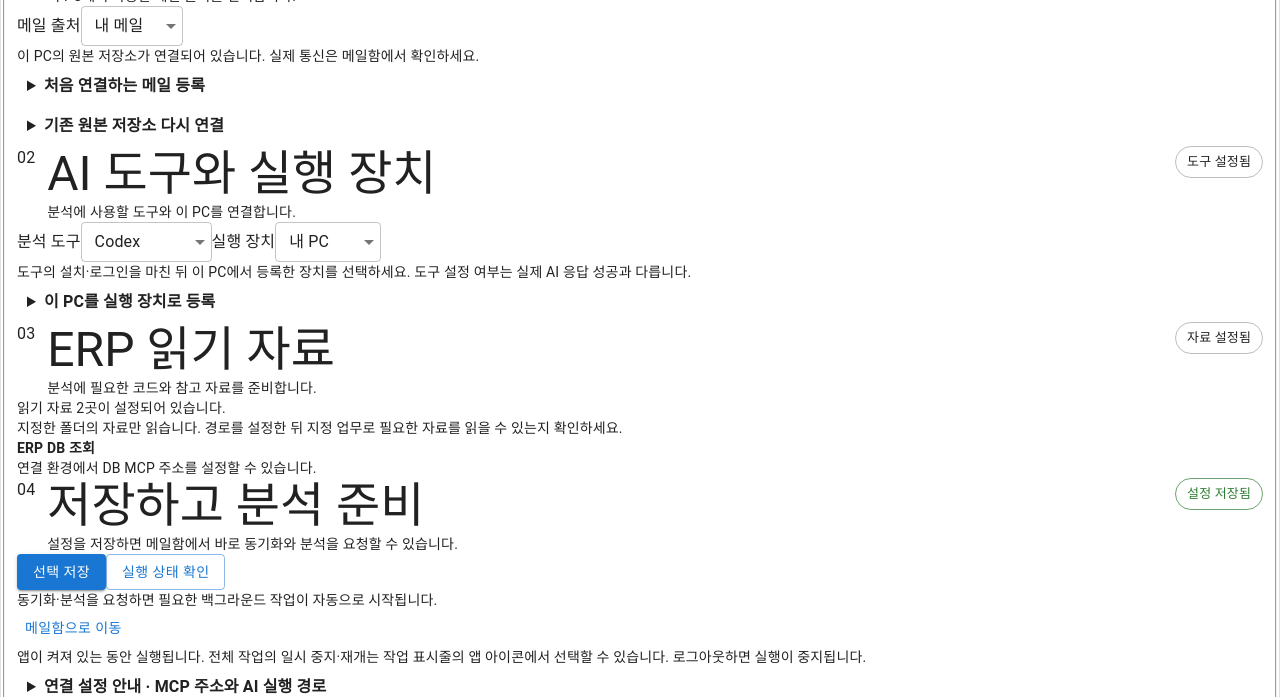
runtime failure stays actionable without presenting old readiness
This screenshot has width=1280, height=697.
(page scrolled)
Check: the dropdown labelled "메일 출처" shows "내 메일", box 81,6 -> 183,46
Click the button "실행 상태 확인" at (166, 572), box 106,554 -> 226,590
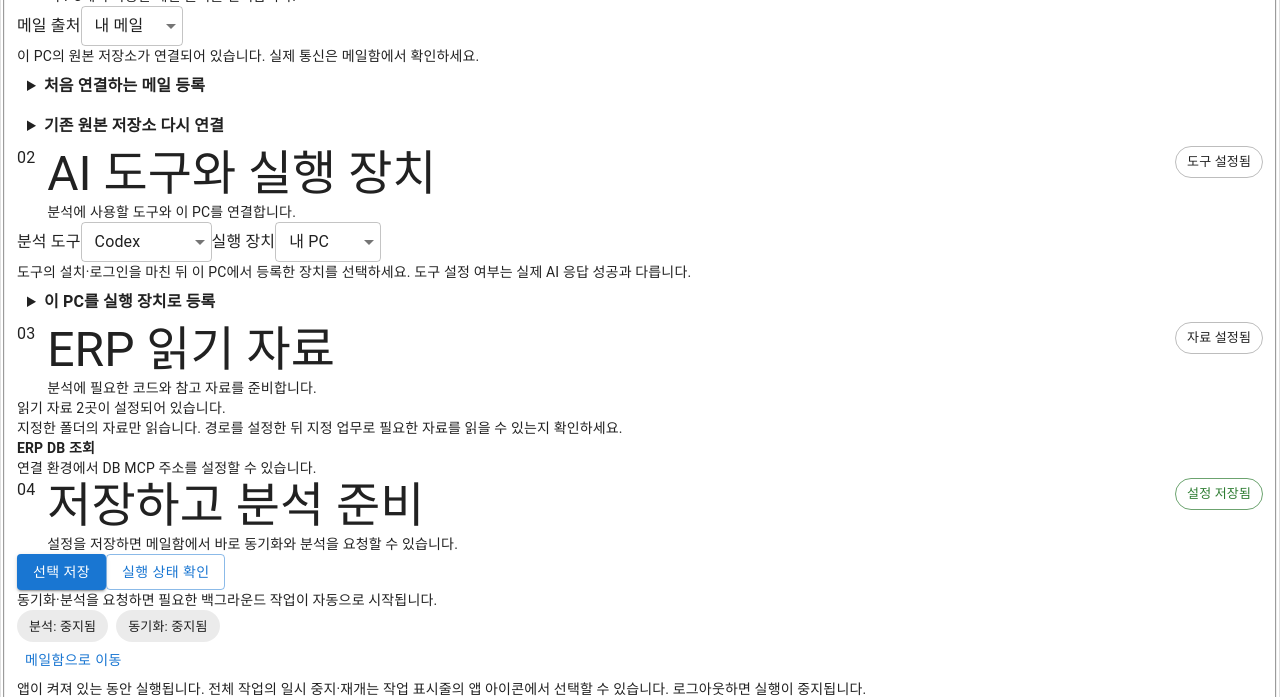
Check: the text "분석: 중지됨" is shown, box 29,618 -> 96,634
Click the button "실행 상태 확인" at (166, 572), box 106,554 -> 226,590
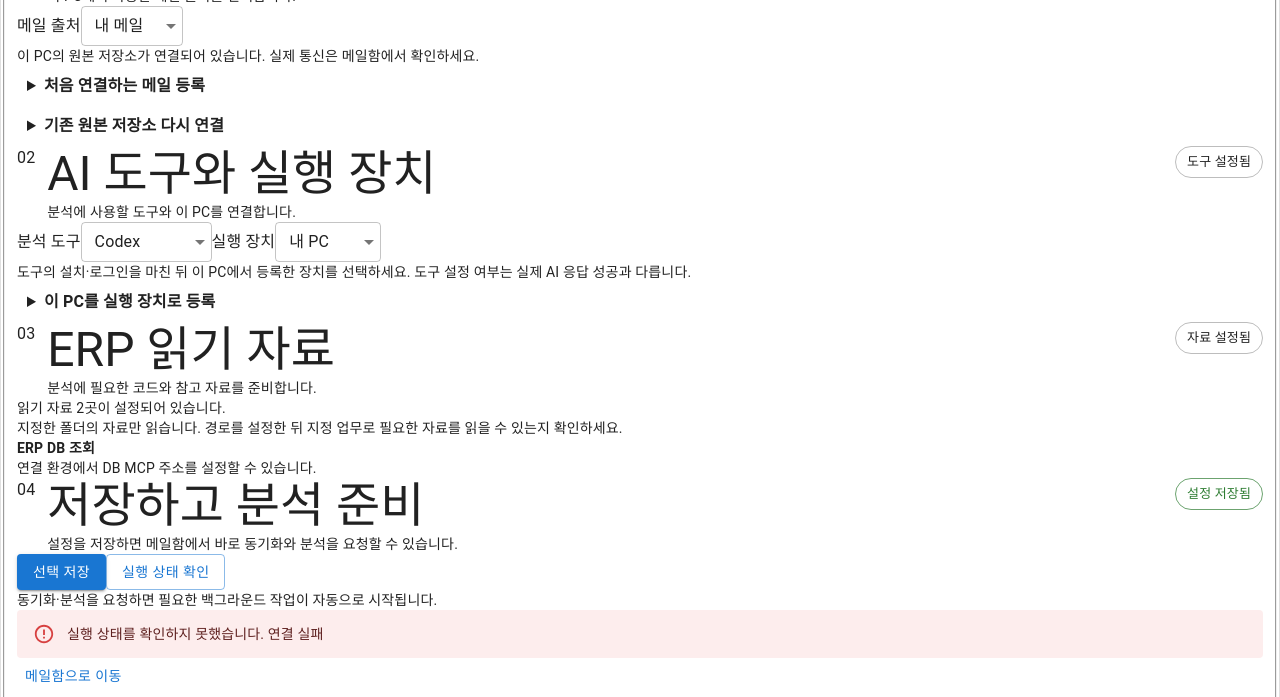
Check: the message reads "실행 상태를 확인하지 못했습니다. 연결 실패", box 17,610 -> 1263,658
Check: the text "분석: 중지됨" is gone
